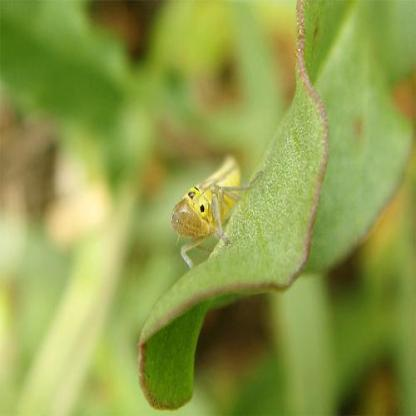Green-Leafhopper: (160, 153, 264, 271)
